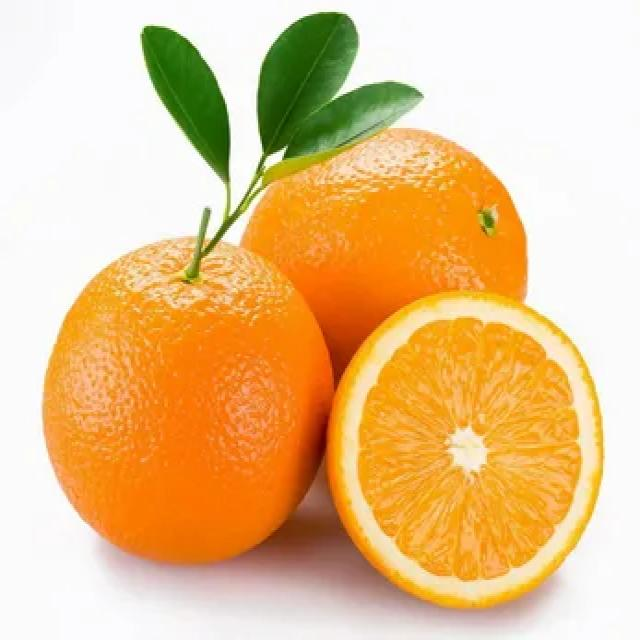orange: (39, 218, 334, 558)
